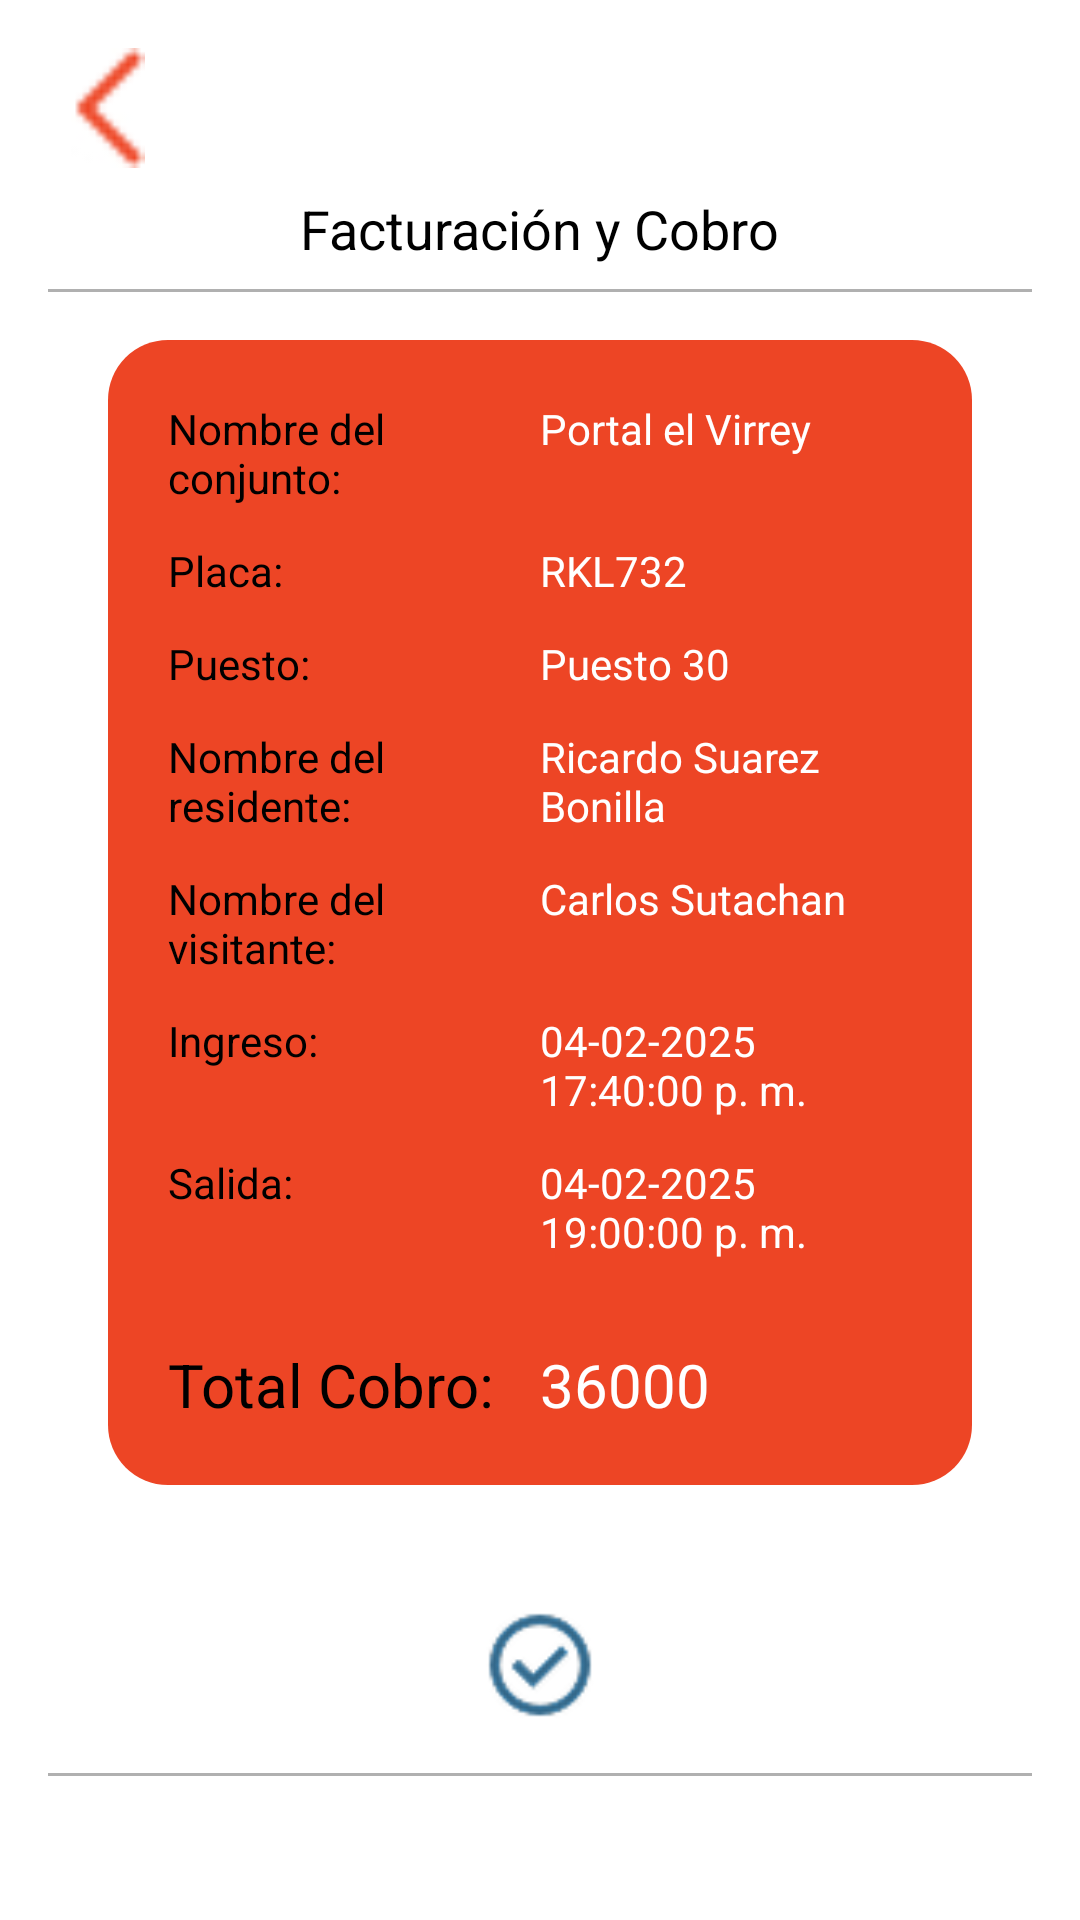

Where to tap for icons on this 1080 × 1920 app screen, as [x,y]:
Flecha de retroceso: [110,108]
Ícono check de confirmación: [539,1665]
